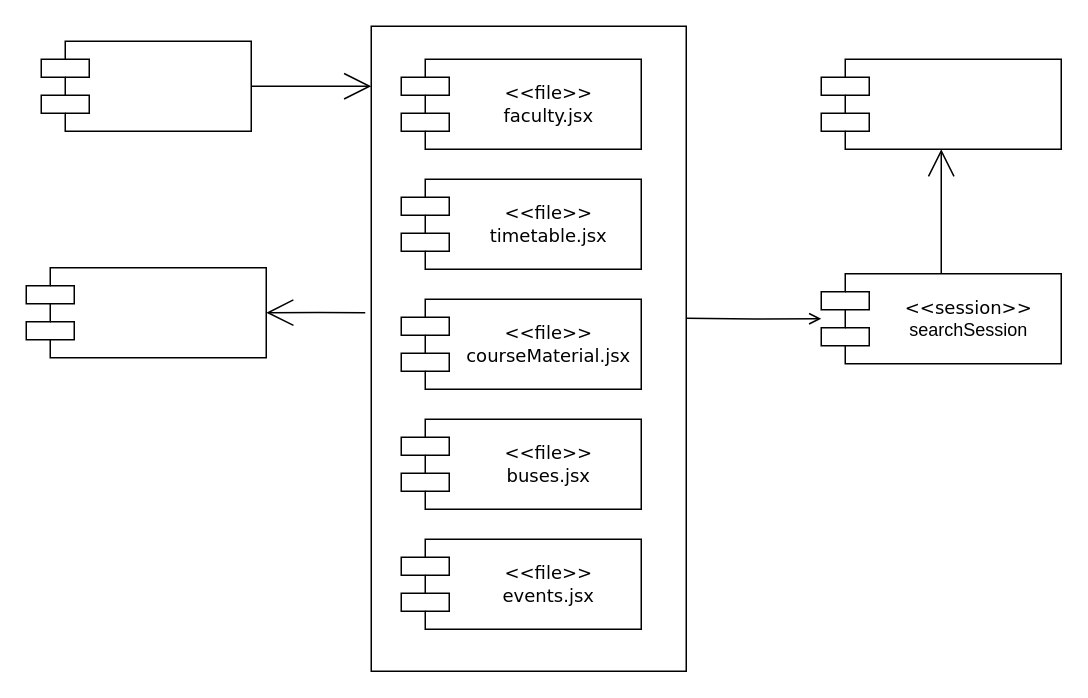
The diagram is 1088 pixels wide and 698 high, and some of its shapes have lost their labels. Here are the shapes that lost their labels. From the top down, the centre of each, then its label:
the point at 145,85: <<file>> student.jsx
the point at 940,103: <<database>> ssna.mongodb
the point at 145,312: <<server>> google
